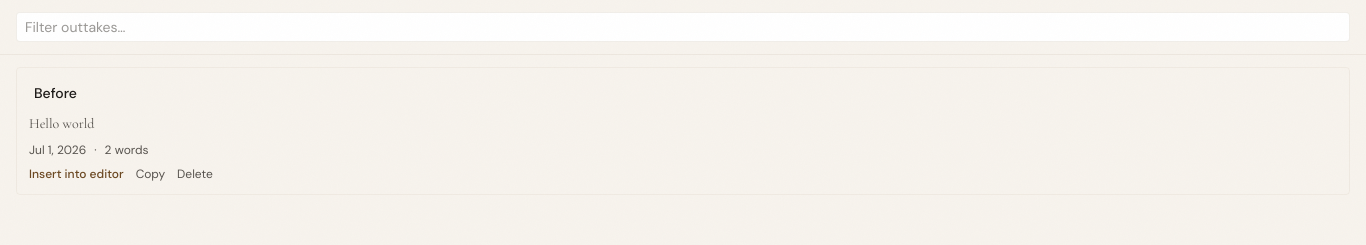
Test case: OuttakesPanel › does not revert a rename the server may have committed (S3)
Replace the text in the field showing "Before" with "After". click: coordinates (683, 93)
box: x1=29 y1=80 x2=1337 y2=106
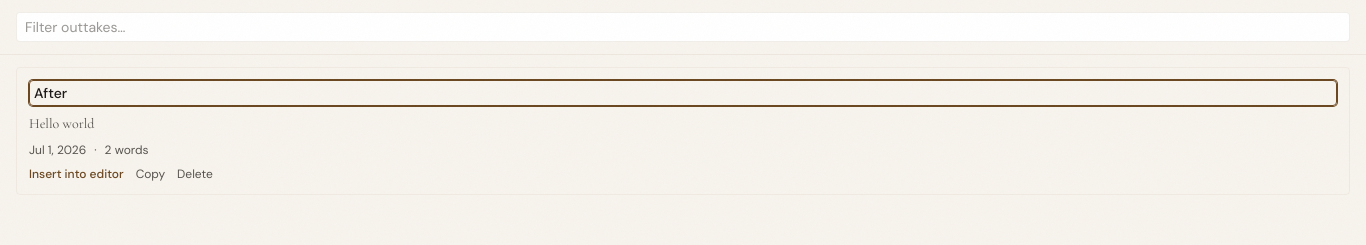
Press Tab
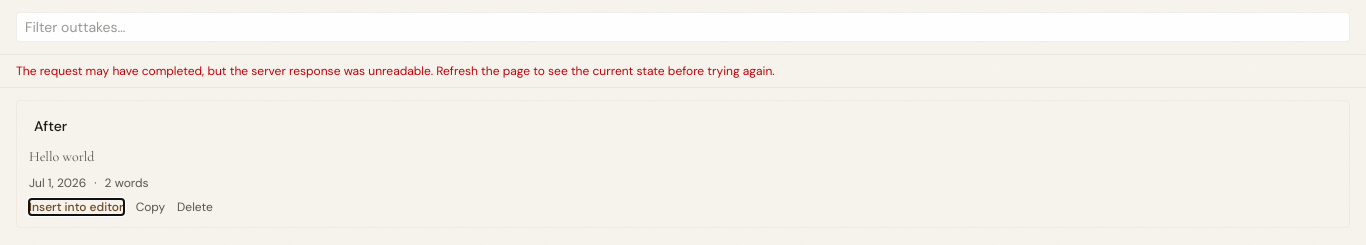
Expected: the text "The request may have completed, but the server response was unreadable. Refresh the page to see the current state before" is shown, x1=16 y1=63 x2=775 y2=79
